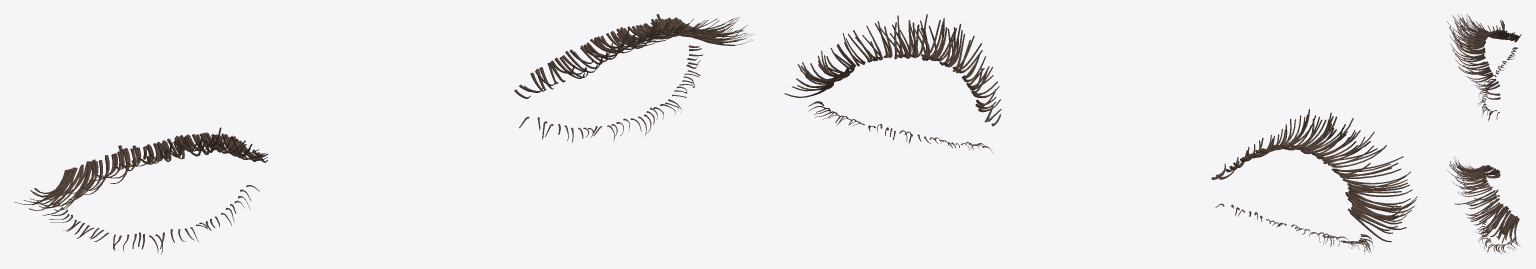
The model's file is eyelash.obj.
3 renders of one model, left to right at view 1: azimuth 30°, elevation 25°; view 2: azimuth 150°, elevation 25°; view 3: azimuth 270°, elevation 25°, orthographic. The views are drawn at different scales.
Parts seen in each view (by area): view 1: eyelashes; view 2: eyelashes; view 3: eyelashes.
Boxes of the visible parts, x1,y1,x2,y2 form: eyelashes: (14, 14, 754, 254); eyelashes: (784, 14, 1417, 254); eyelashes: (1447, 14, 1521, 253).
Size of the model in its own units: 7.93 by 1.43 by 1.18.
